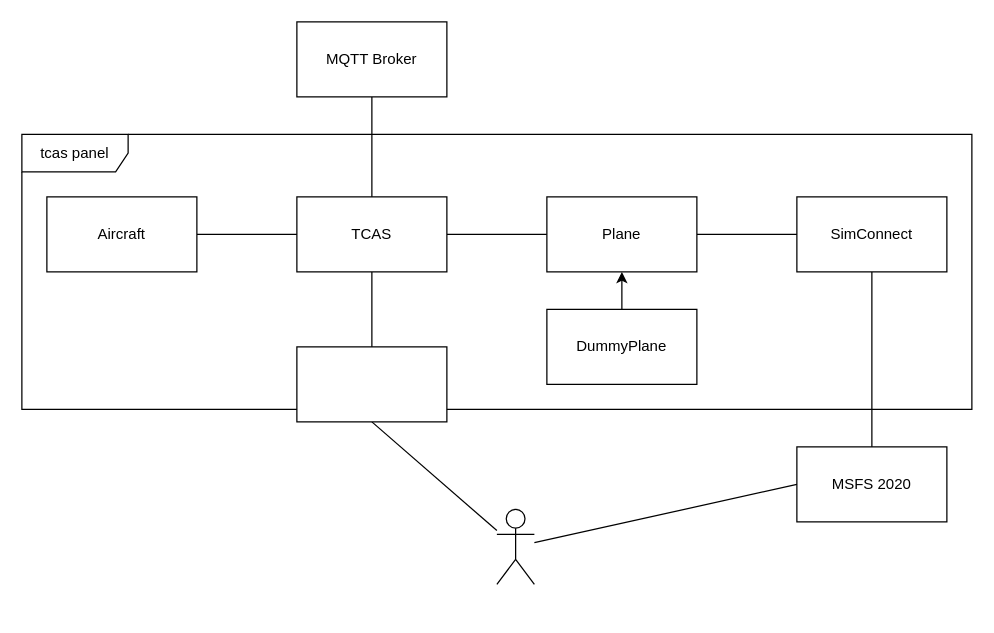
Some shapes in this 994 by 633 pixel diagram are drawn without their labels. The box of each missing label's shape, as (x1, y1, x2, y2) in pixels:
UI: (296, 346, 447, 422)
User: (496, 508, 534, 584)
